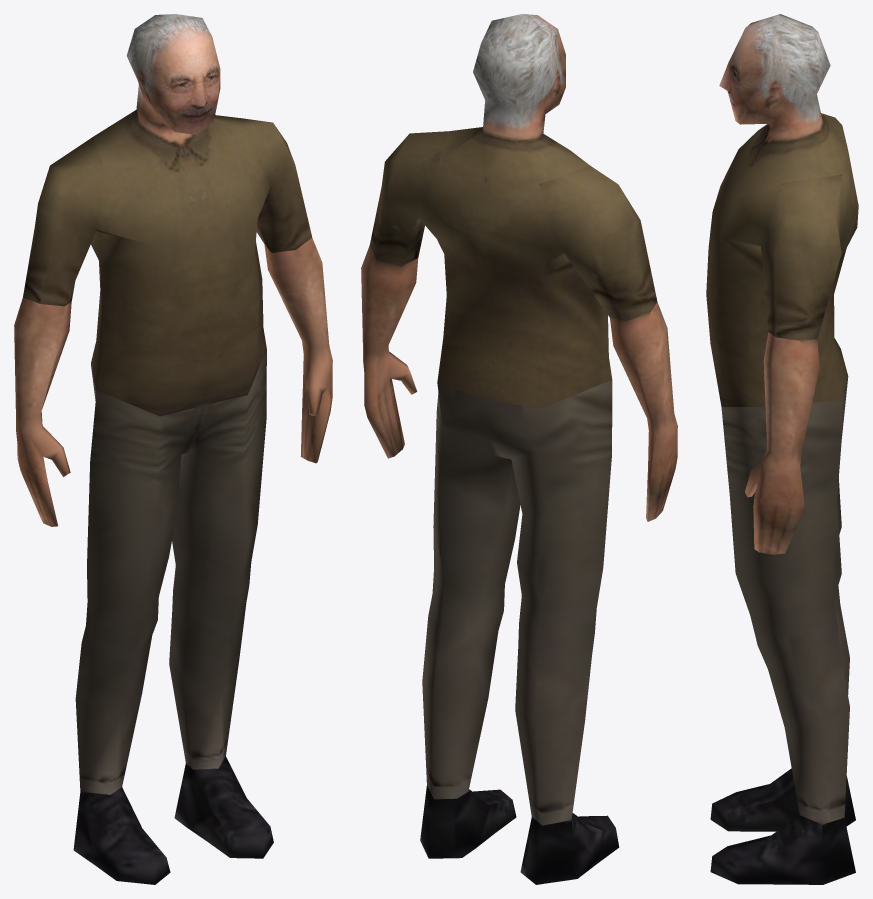
Rendered from dragan.obj.
3 views of the same model, side by side, from view 1: azimuth 30°, elevation 25°; view 2: azimuth 150°, elevation 25°; view 3: azimuth 270°, elevation 25° (orthographic).
Parts seen in each view (by area): view 1: Character_Male; view 2: Character_Male; view 3: Character_Male.
Part boxes in pixels (x1,y1,x2,y2): Character_Male: (14,14,332,884); Character_Male: (361,14,677,884); Character_Male: (706,14,858,884).
Bounding box in the file's own units: 2.37 × 6.09 × 1.01.
Materials: 1 (1 with a texture image).
